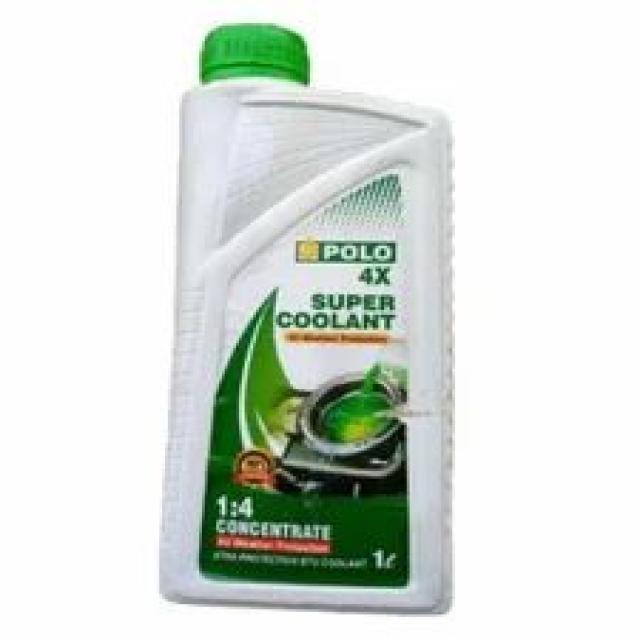coolant: (158, 18, 462, 620)
